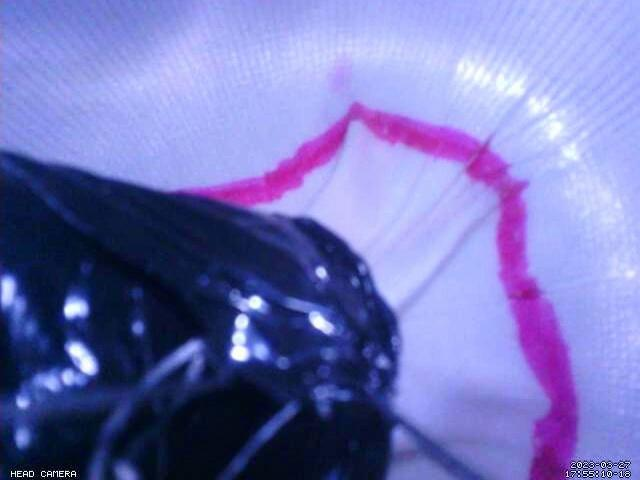red-circle: (178, 101, 582, 480)
